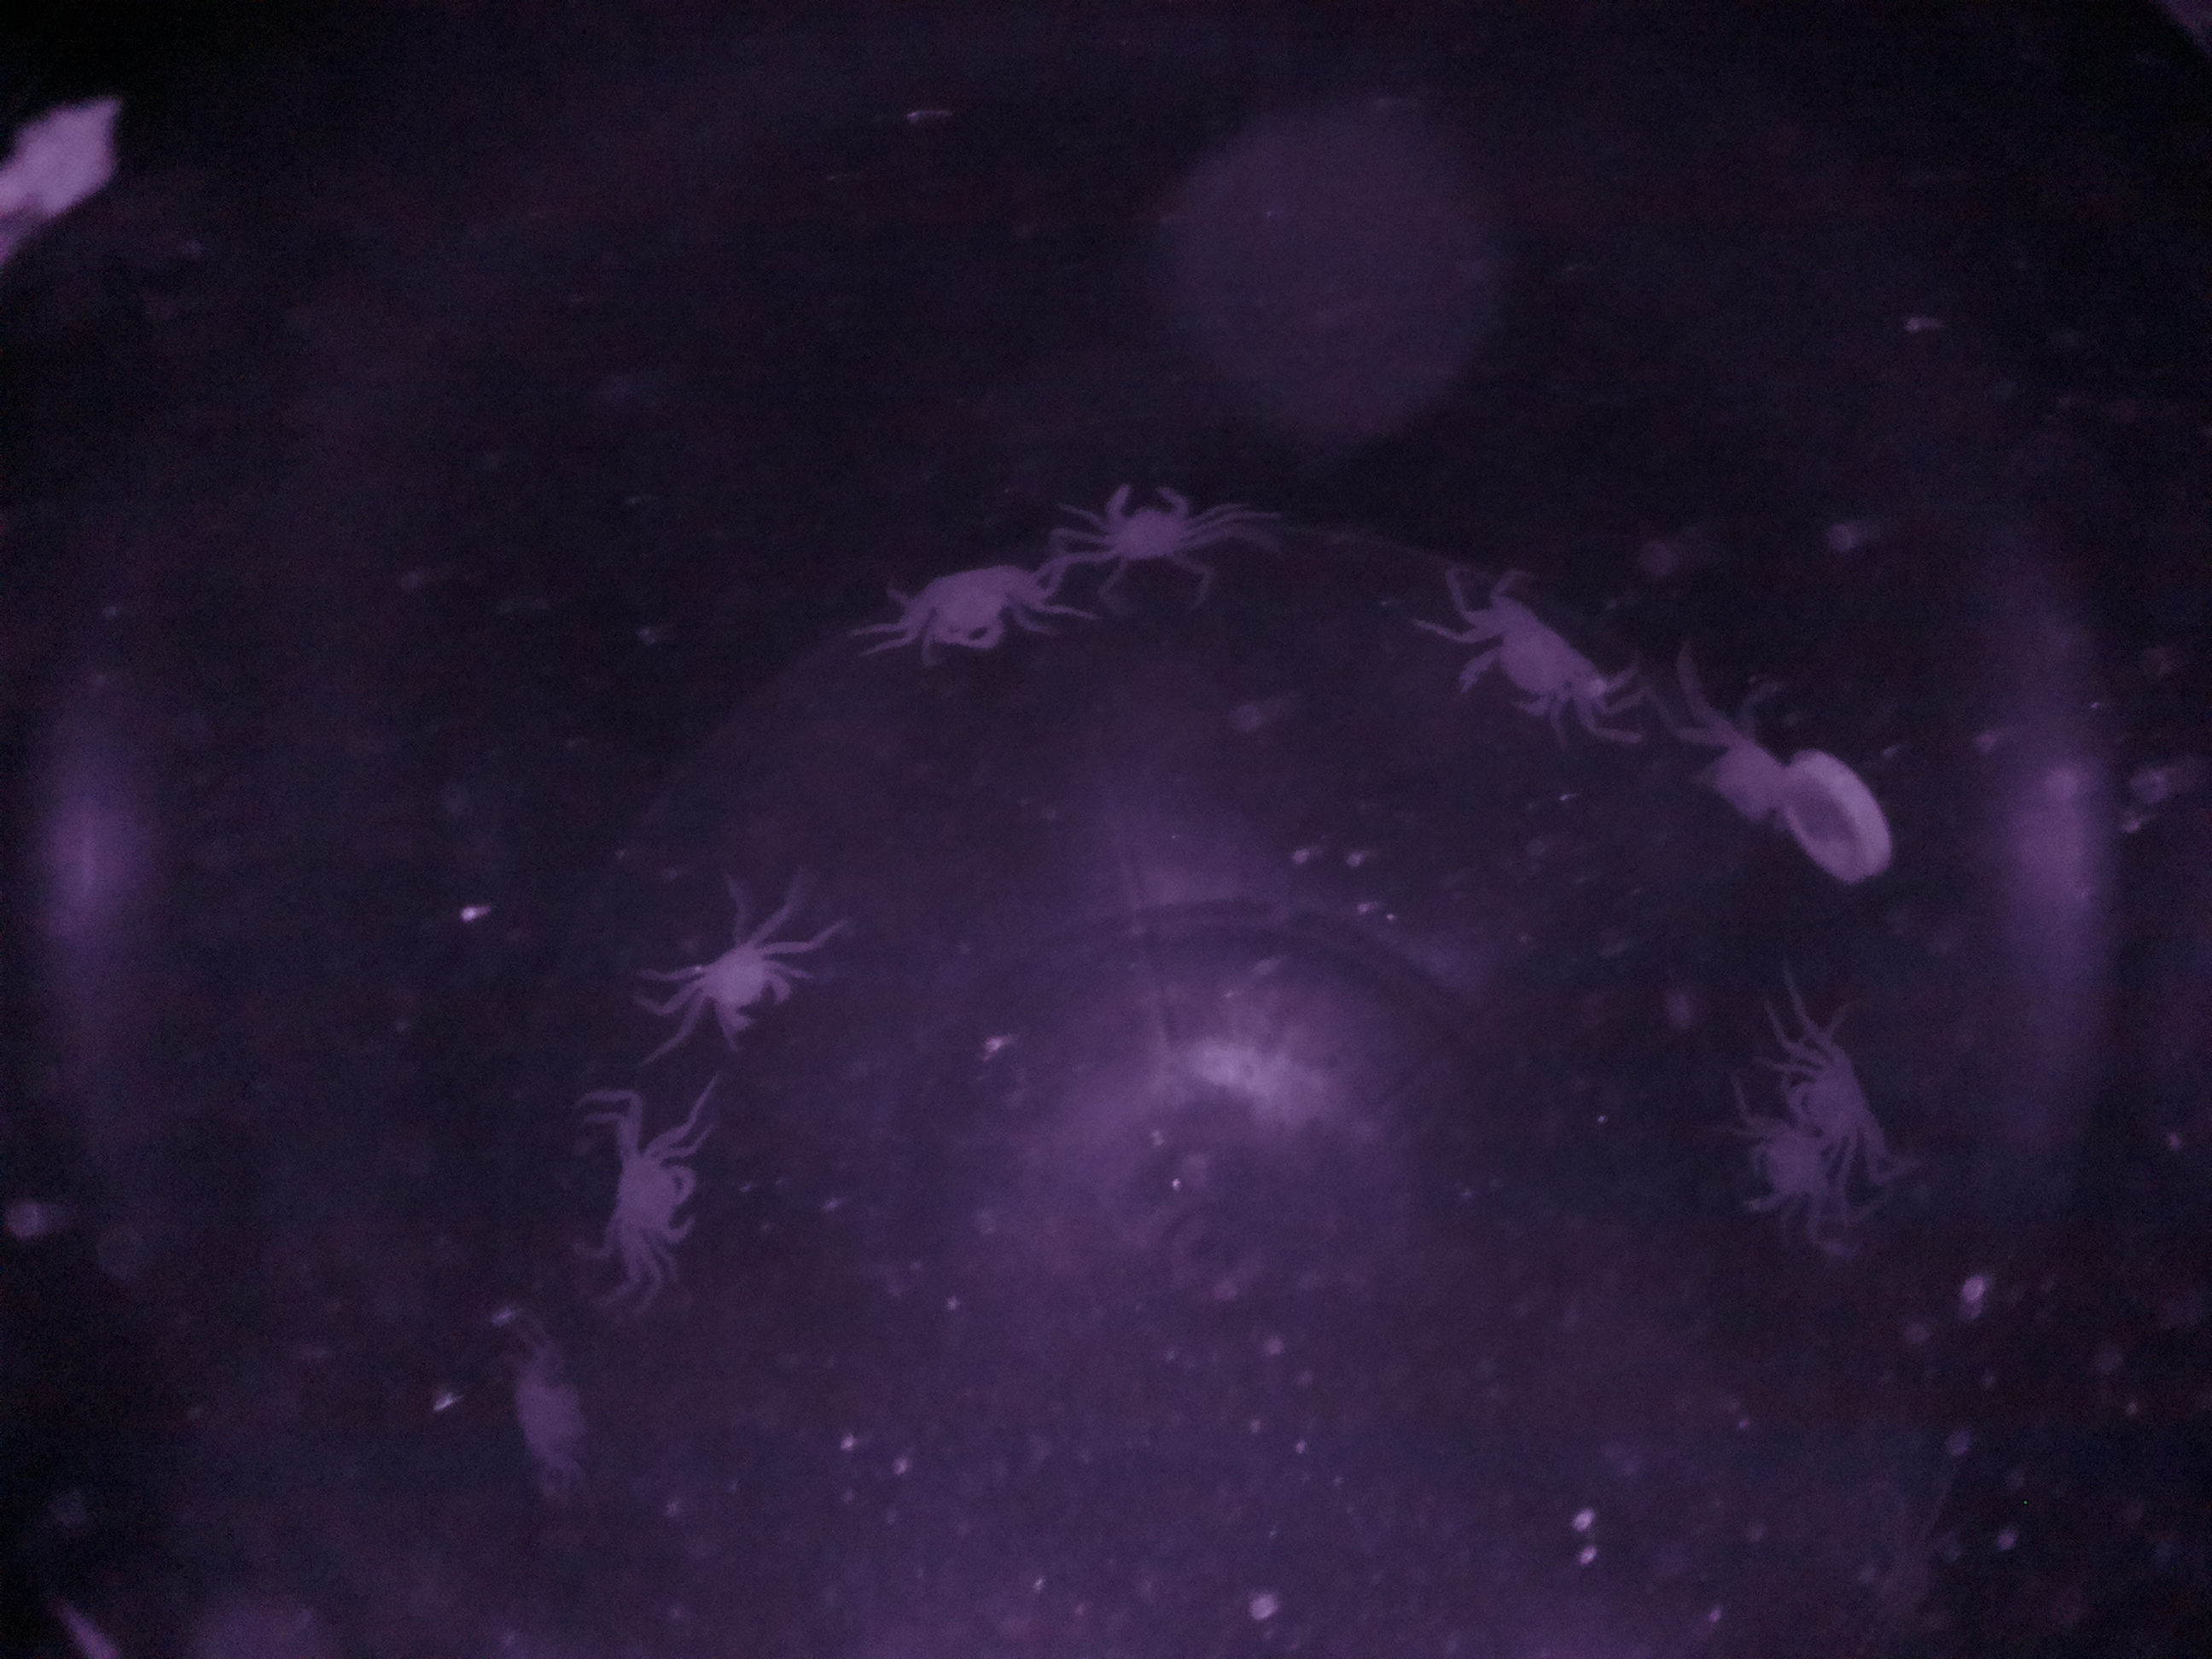Crab: (1444, 542, 1622, 763), (577, 1096, 732, 1297), (669, 904, 824, 1066), (1651, 962, 1785, 1143), (885, 538, 1052, 683), (1073, 457, 1216, 599)
